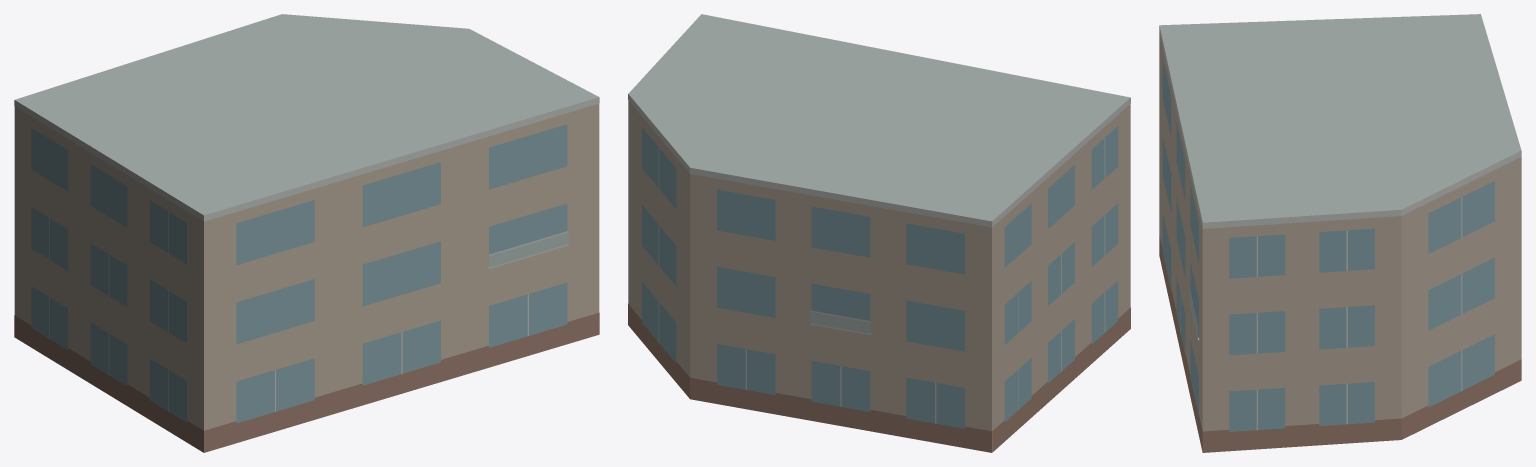
File: survey-upis-32959966.glb
3 views of the same model, side by side, from view 1: azimuth 30°, elevation 25°; view 2: azimuth 150°, elevation 25°; view 3: azimuth 270°, elevation 25° (orthographic). The views are drawn at different scales.
Visible parts, largest first — view 1: survey-upis-32959966.tmp; view 2: survey-upis-32959966.tmp; view 3: survey-upis-32959966.tmp.
Boxes of the visible parts, x1=… form: survey-upis-32959966.tmp: x1=14, y1=14, x2=599, y2=452; survey-upis-32959966.tmp: x1=628, y1=14, x2=1130, y2=452; survey-upis-32959966.tmp: x1=1159, y1=14, x2=1521, y2=452.
Size of the model in its own units: 17.82 by 9.15 by 13.06.
